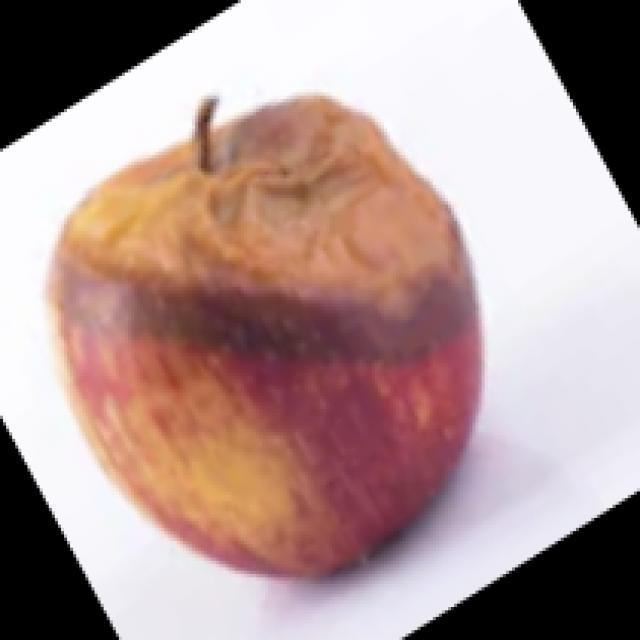Rotten: (65, 101, 487, 582)
